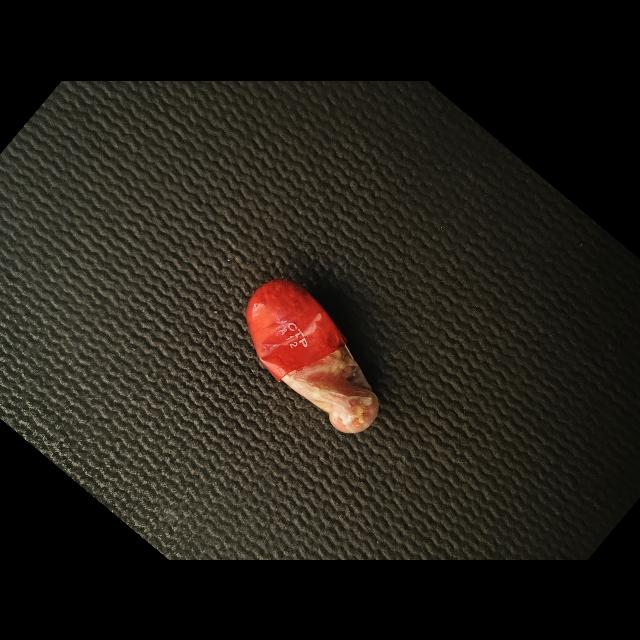Defective Capsule: (246, 279, 379, 433)
